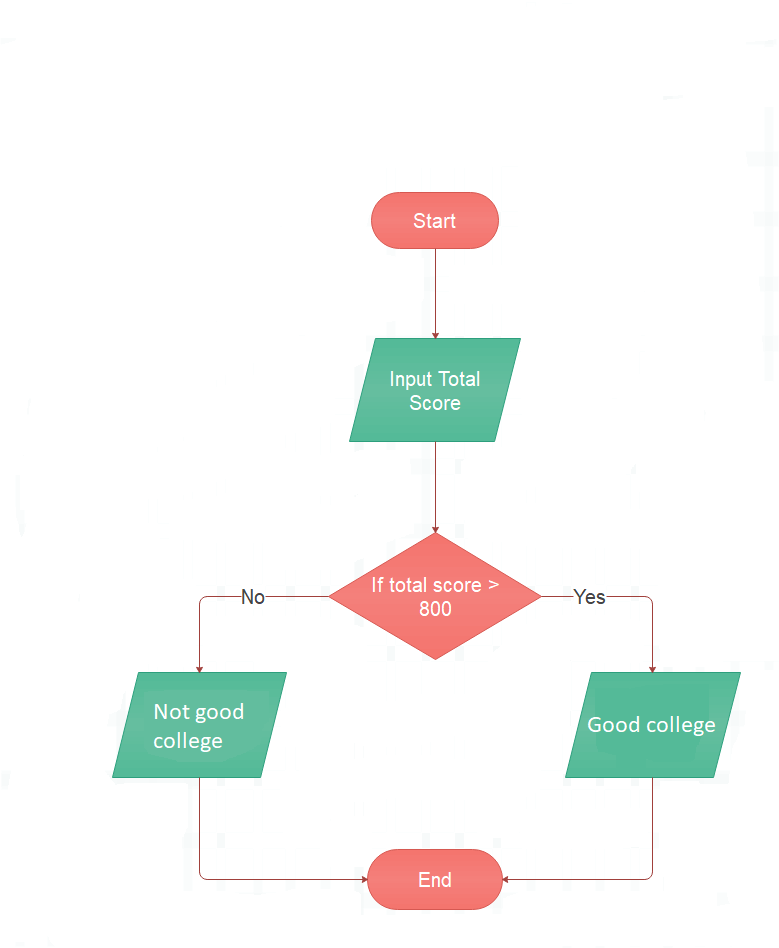arrow: (192, 775, 378, 887), (498, 777, 662, 887), (192, 593, 333, 678), (536, 590, 663, 677), (368, 575, 504, 619), (150, 700, 249, 755), (385, 366, 485, 414), (584, 711, 720, 742), (429, 437, 443, 536), (429, 243, 442, 342), (569, 584, 610, 613), (411, 208, 458, 233), (414, 868, 456, 890), (233, 587, 269, 611)
data: (107, 668, 291, 784), (559, 669, 742, 782), (347, 335, 527, 446)
decision: (330, 530, 546, 664)
terminator: (363, 846, 507, 913), (366, 187, 504, 256)
